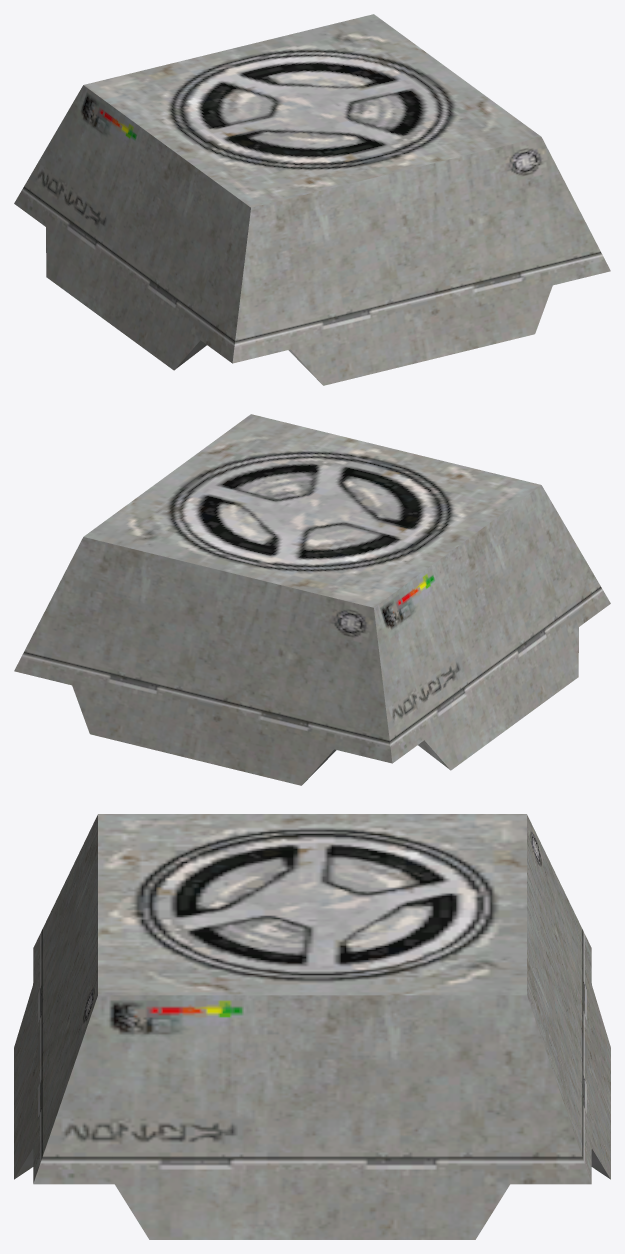
The model's file is con_gen_energy_radioactive_lg_l1.fbx.
3 views of the same model, one above another, from view 1: azimuth 30°, elevation 25°; view 2: azimuth 150°, elevation 25°; view 3: azimuth 270°, elevation 25° (orthographic). The views are drawn at different scales.
Visible parts, largest first — view 1: mesh_node; view 2: mesh_node; view 3: mesh_node.
Boxes of the visible parts, x1,y1,x2,y2 form: mesh_node: (14,14,610,385); mesh_node: (14,414,610,785); mesh_node: (14,814,610,1239).
Size of the model in its own units: 1.2 by 0.4632 by 1.2.
